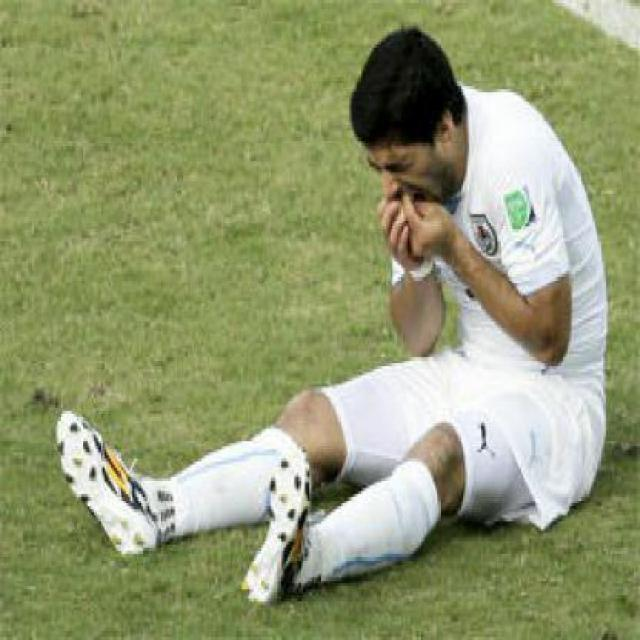fall: (32, 18, 608, 604)
